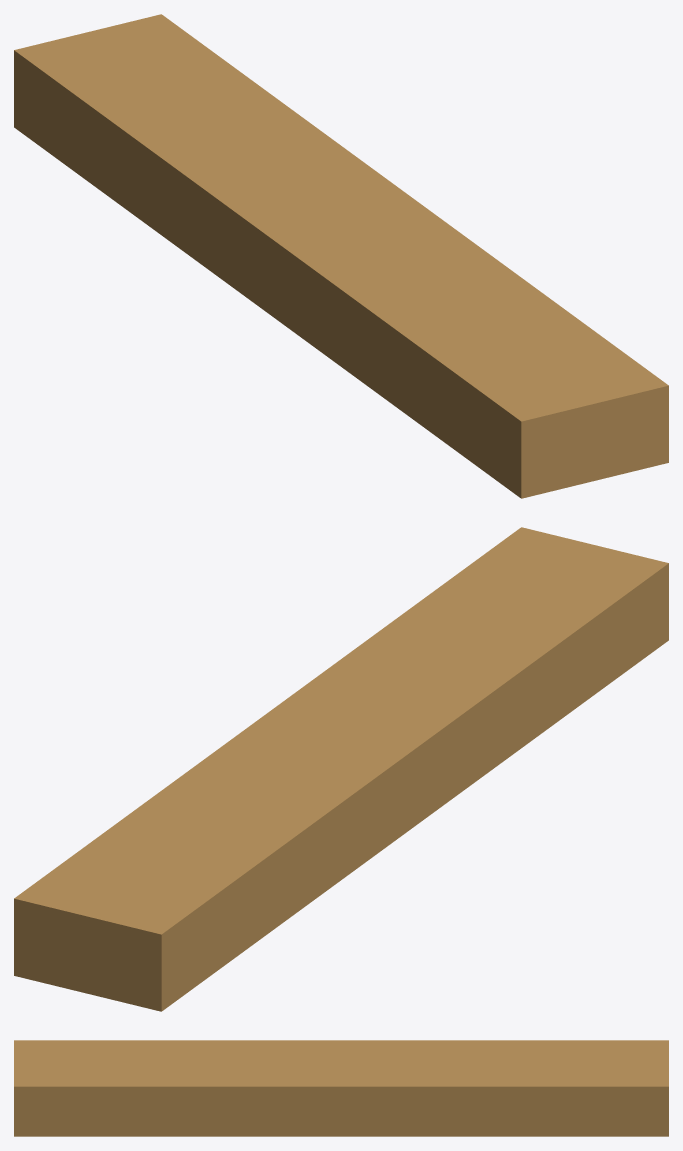
3 renders of one model, top to bottom at view 1: azimuth 30°, elevation 25°; view 2: azimuth 150°, elevation 25°; view 3: azimuth 270°, elevation 25°, orthographic. The views are drawn at different scales.
Visible parts, largest first — view 1: RUN-080-S04-NOG-02; view 2: RUN-080-S04-NOG-02; view 3: RUN-080-S04-NOG-02.
Boxes of the visible parts, left/top/right/bottom form: RUN-080-S04-NOG-02: left=14, top=14, right=668, bottom=498; RUN-080-S04-NOG-02: left=14, top=527, right=668, bottom=1011; RUN-080-S04-NOG-02: left=14, top=1040, right=668, bottom=1136.
Size of the model in its own units: 0.09 by 0.045 by 0.536.
